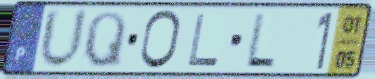1: (315, 10, 334, 72)
L: (242, 11, 279, 70), (186, 12, 222, 68)
O: (137, 8, 183, 72)
Q: (81, 9, 129, 70)
U: (36, 6, 91, 72)
